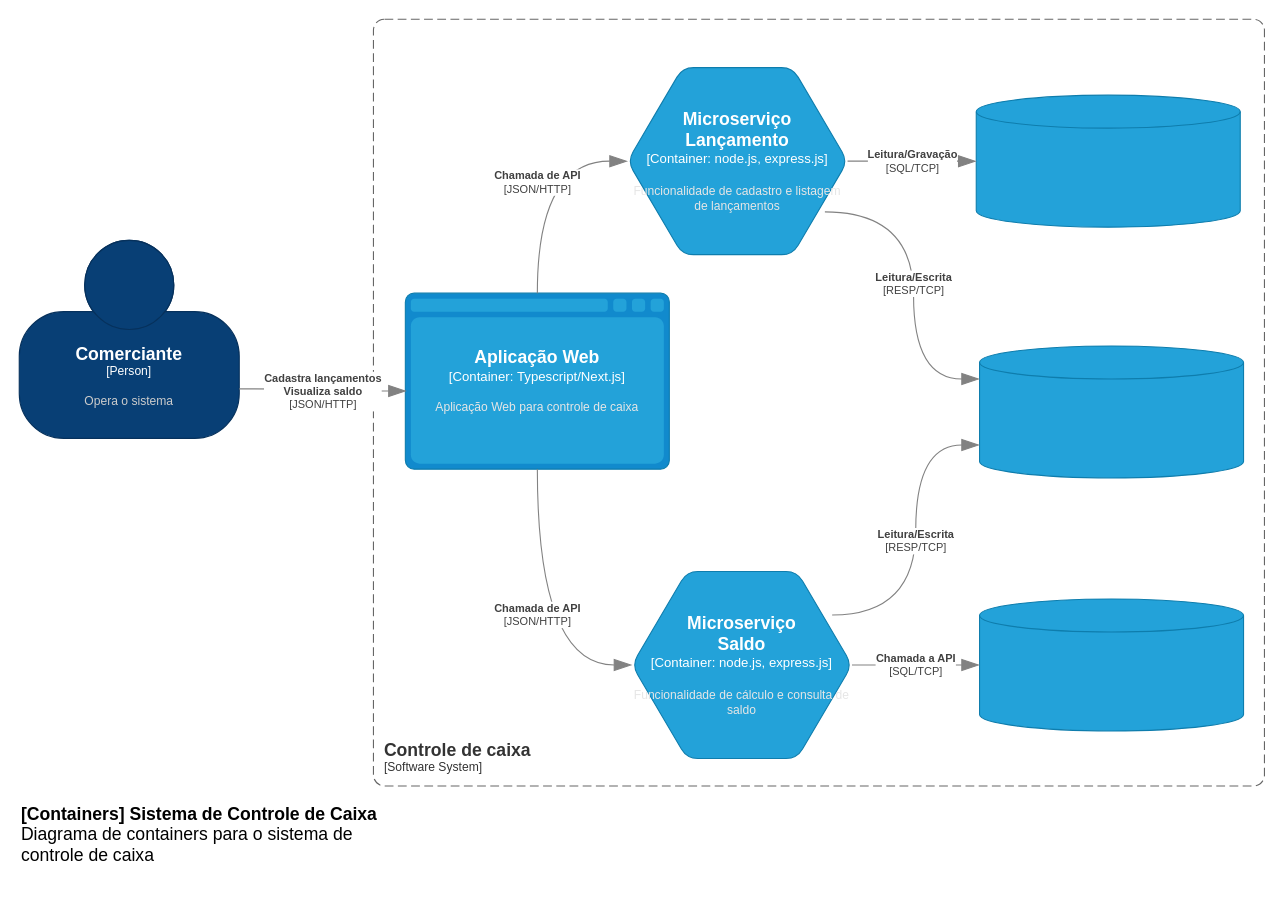
Image size: 1284x902. Some labels were removed from this diagram. Here are the shapes that lost their labels. From the top down, the centre of each, then its label:
the point at 1107,160: Lançamentos [Container: MySQL] Banco de Dados
the point at 1111,411: Cache [Container: Redis cache] Fornece dados em memória
the point at 1111,664: Saldos [Container: MySQL] Banco de Dados
